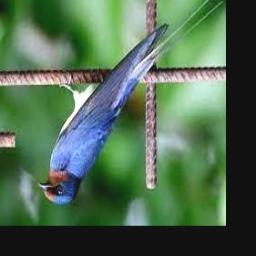Swallow: (38, 0, 223, 204)
